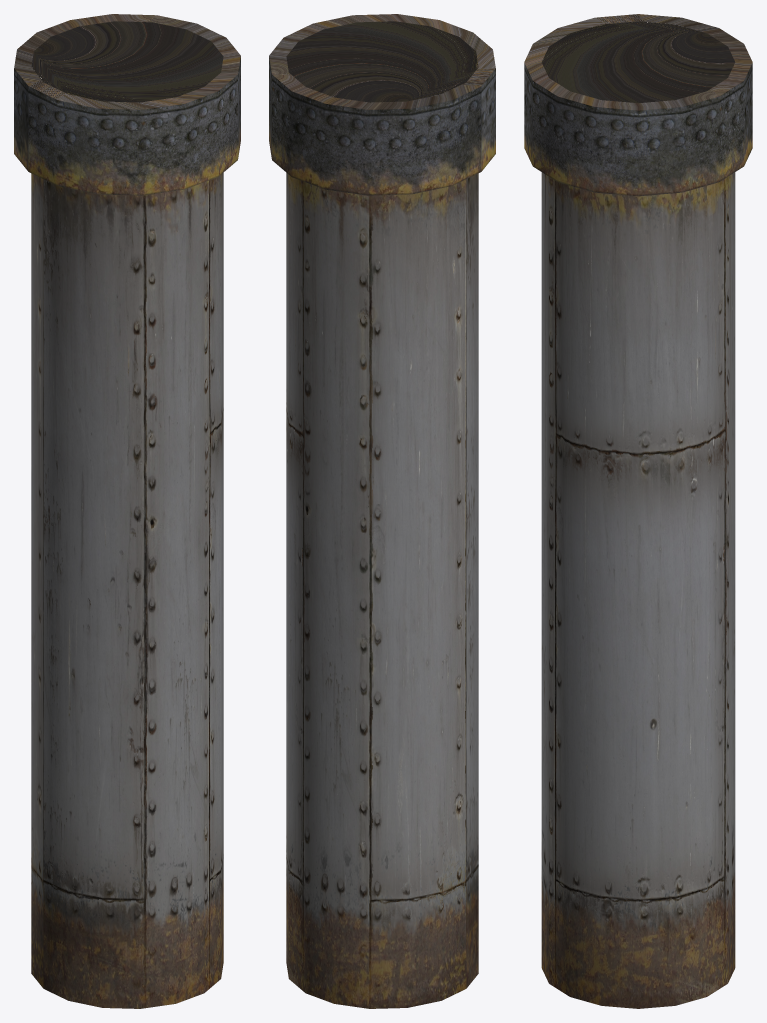
Rendered from Pipe_01.fbx.
The picture shows the model from 3 angles, left to right: view 1: azimuth 30°, elevation 25°; view 2: azimuth 150°, elevation 25°; view 3: azimuth 270°, elevation 25°; orthographic projection.
Visible parts, largest first — view 1: pipe_01_1; view 2: pipe_01_1; view 3: pipe_01_1.
Boxes of the visible parts, x1=… form: pipe_01_1: x1=14, y1=14, x2=240, y2=1008; pipe_01_1: x1=269, y1=14, x2=495, y2=1008; pipe_01_1: x1=524, y1=14, x2=752, y2=1008.
Bounding box in the file's own units: 37.51 × 164 × 37.51.
Materials: 1 (1 with a texture image).
